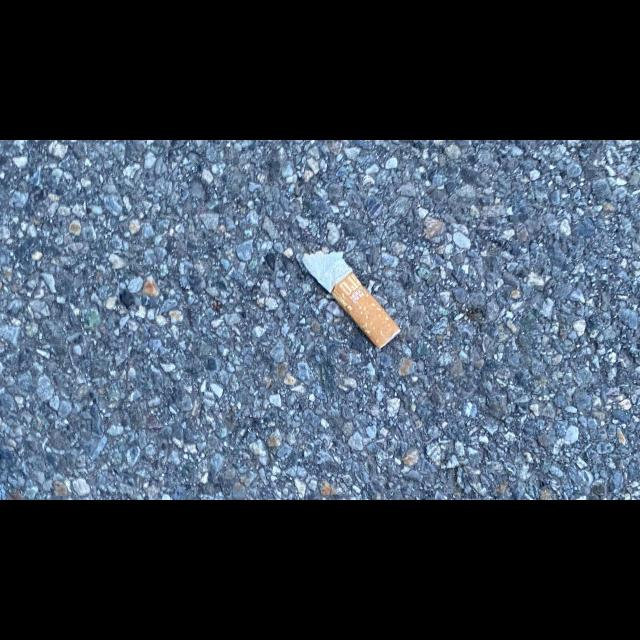cigarette: (301, 250, 404, 351)
